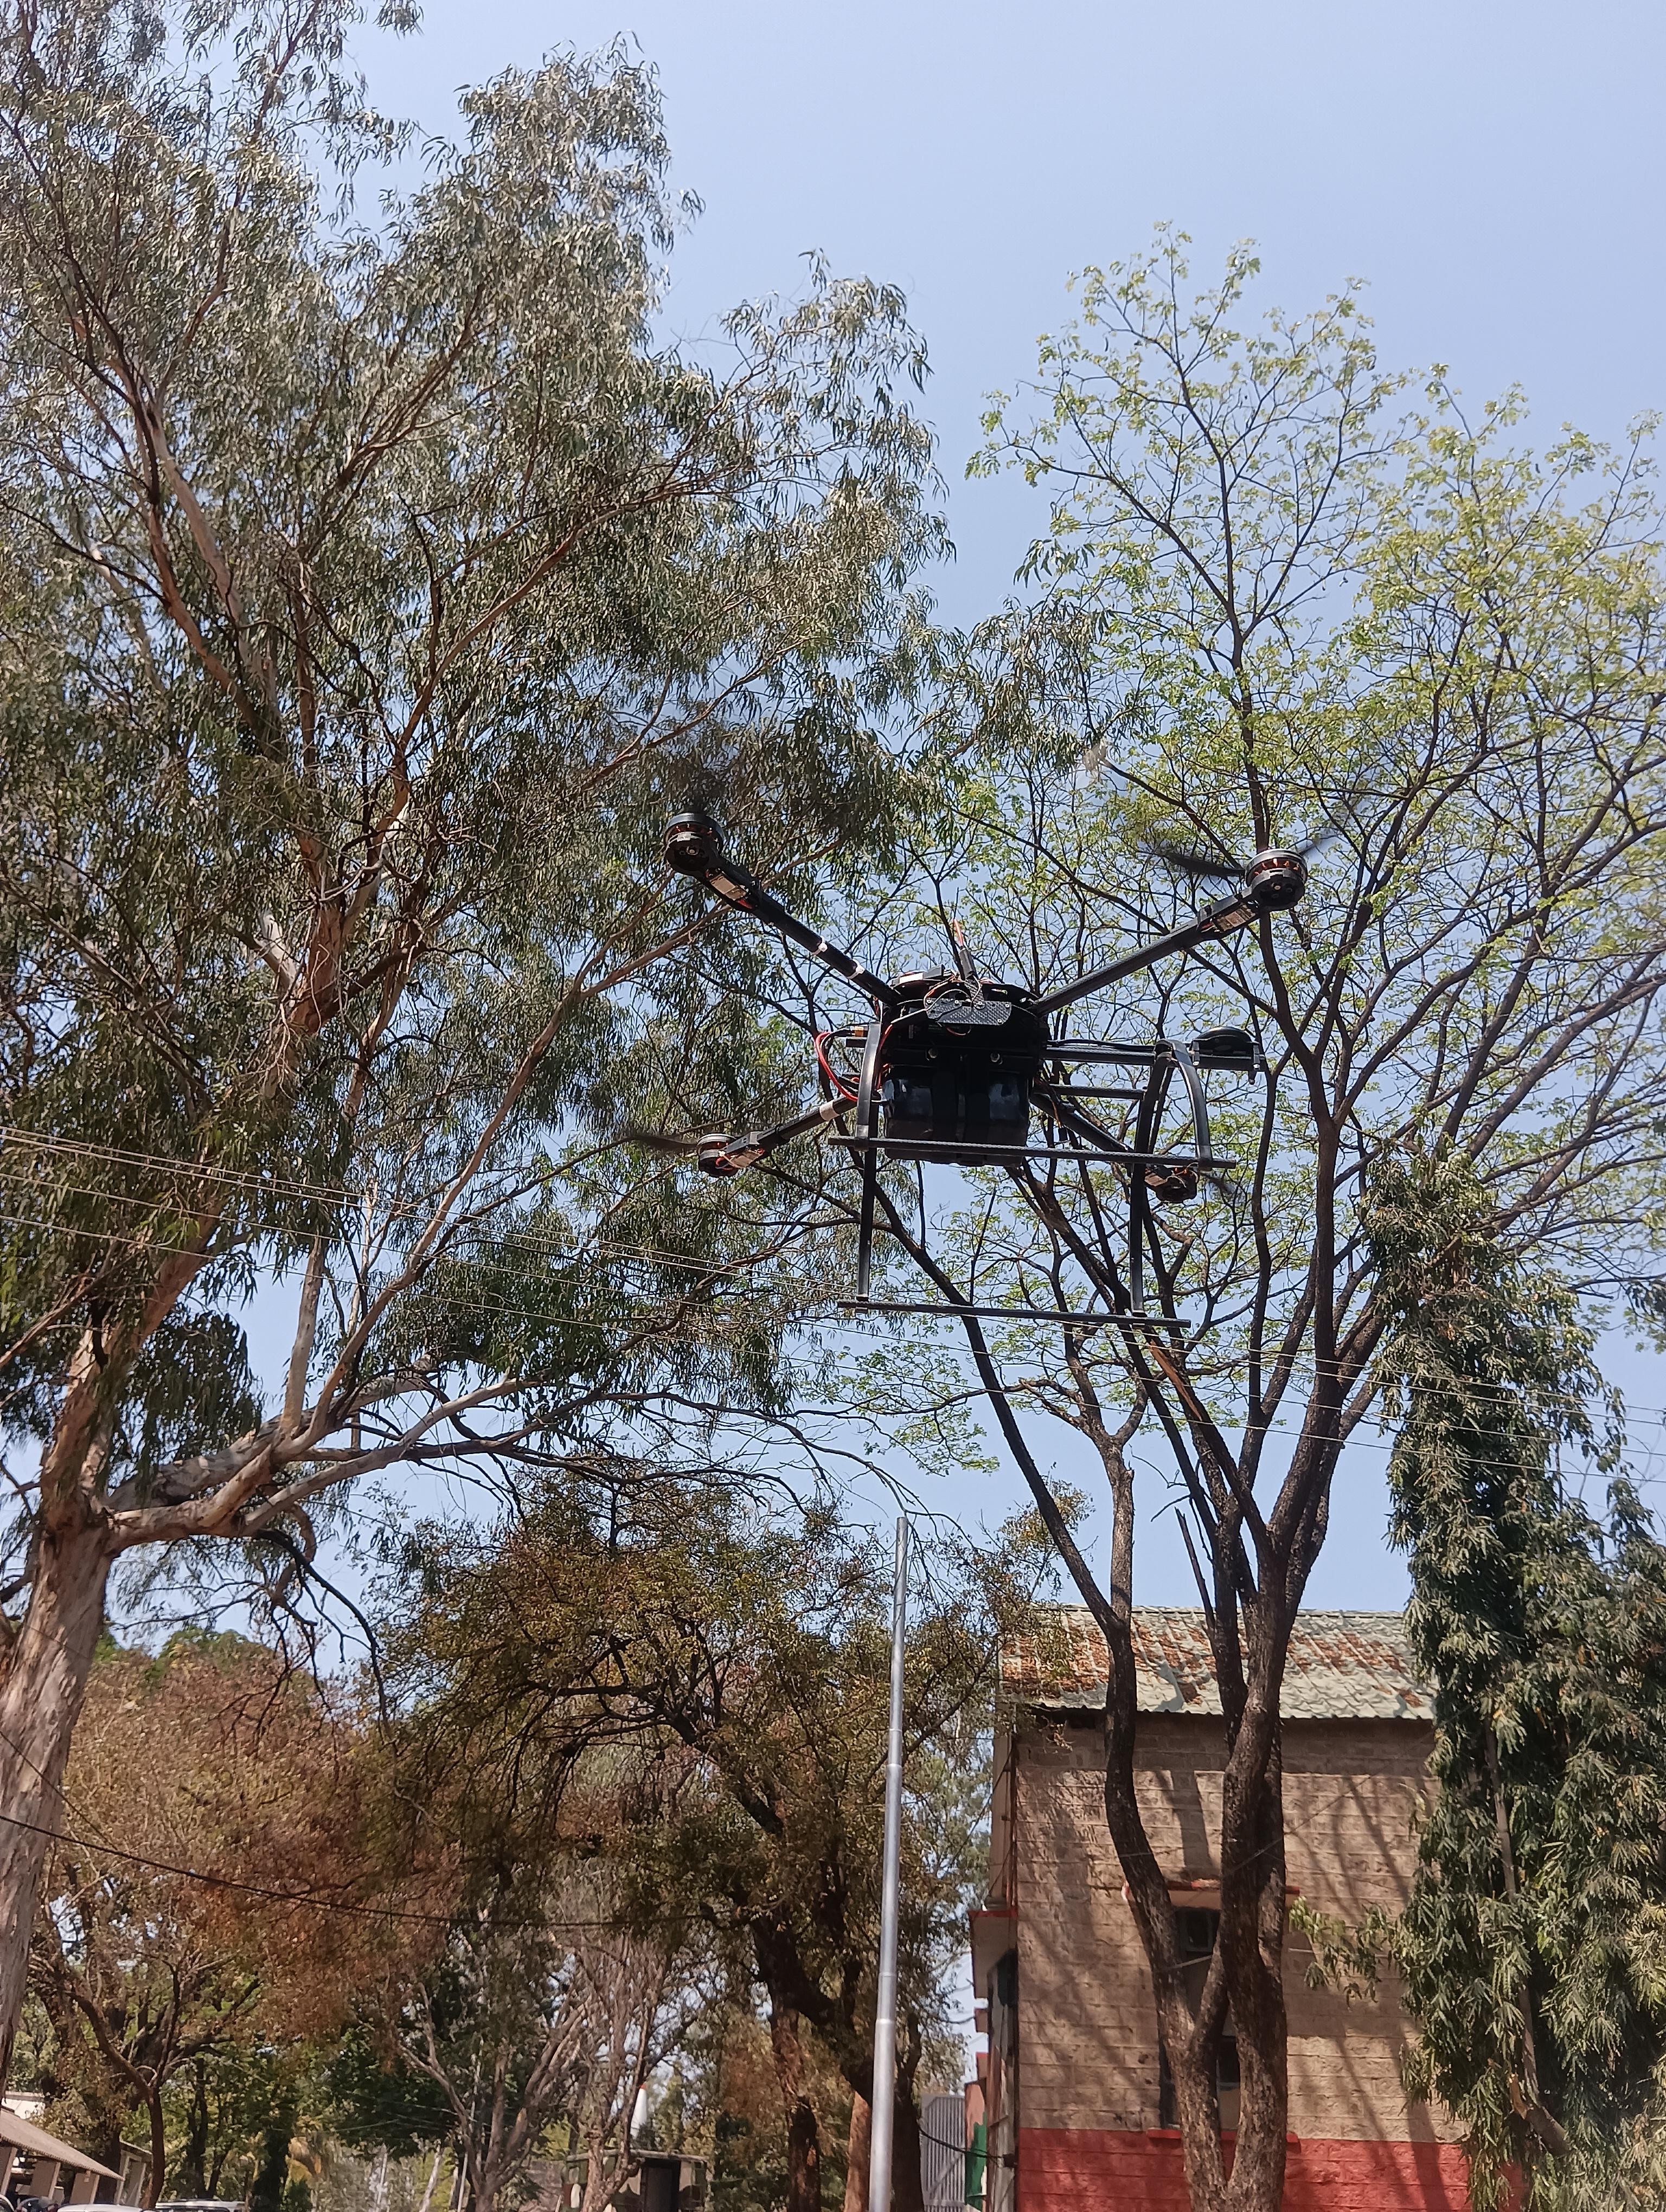drone: (555, 738, 1407, 1395)
